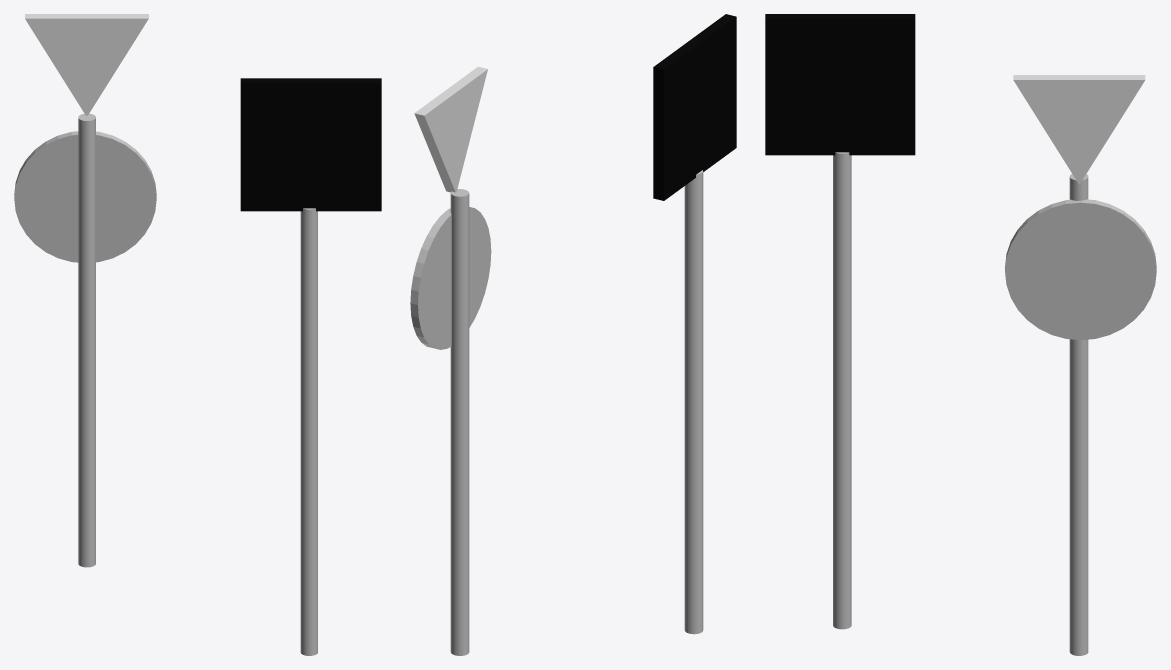
File: roundaboutpedestrian.fbx
The picture shows the model from 3 angles, left to right: view 1: azimuth 90°, elevation 25°; view 2: azimuth 150°, elevation 25°; view 3: azimuth 270°, elevation 25°; orthographic projection. The views are drawn at different scales.
Parts seen in each view (by area): view 1: Cube, Cube.003, Cube.004, Cube.002, Cube.006; view 2: Cube, Cube.004, Cube.002, Cube.003, Cube.006; view 3: Cube, Cube.003, Cube.002, Cube.006, Cube.004.
Boxes of the visible parts, x1=… form: Cube: x1=240, y1=78, x2=381, y2=211; Cube.003: x1=14, y1=131, x2=156, y2=262; Cube.004: x1=78, y1=113, x2=95, y2=567; Cube.002: x1=300, y1=208, x2=317, y2=655; Cube.006: x1=25, y1=14, x2=148, y2=115; Cube: x1=653, y1=14, x2=736, y2=200; Cube.004: x1=450, y1=189, x2=469, y2=655; Cube.002: x1=684, y1=170, x2=703, y2=634; Cube.003: x1=410, y1=207, x2=491, y2=349; Cube.006: x1=414, y1=66, x2=487, y2=192; Cube: x1=765, y1=14, x2=915, y2=155; Cube.003: x1=1005, y1=199, x2=1156, y2=340; Cube.002: x1=833, y1=152, x2=851, y2=629; Cube.006: x1=1013, y1=75, x2=1145, y2=184; Cube.004: x1=1069, y1=174, x2=1088, y2=655.
Size of the model in its own units: 341 by 1366 by 791.
